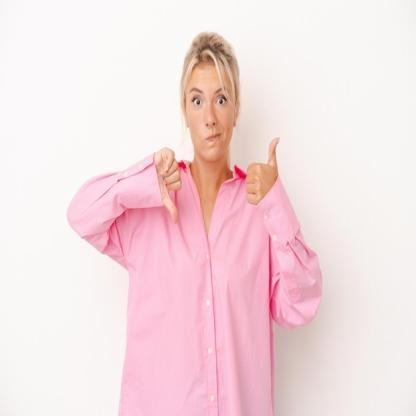thumb_down: (149, 144, 184, 226)
thumb_up: (244, 134, 282, 209)
